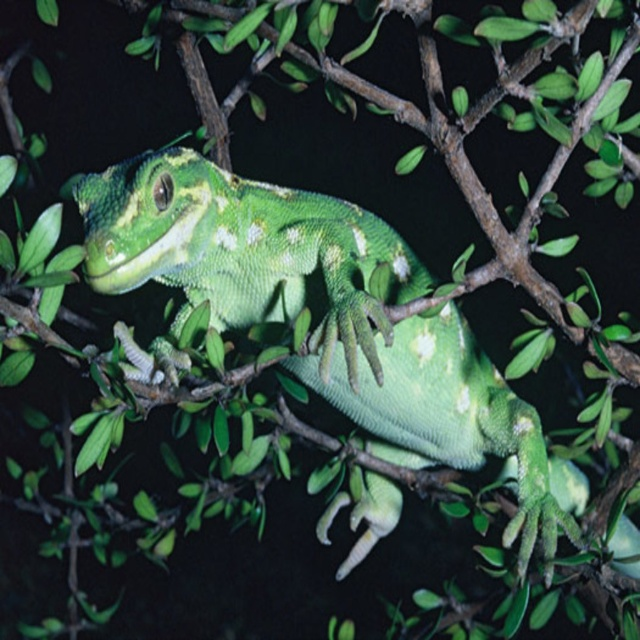Lizard: (73, 145, 638, 582)
